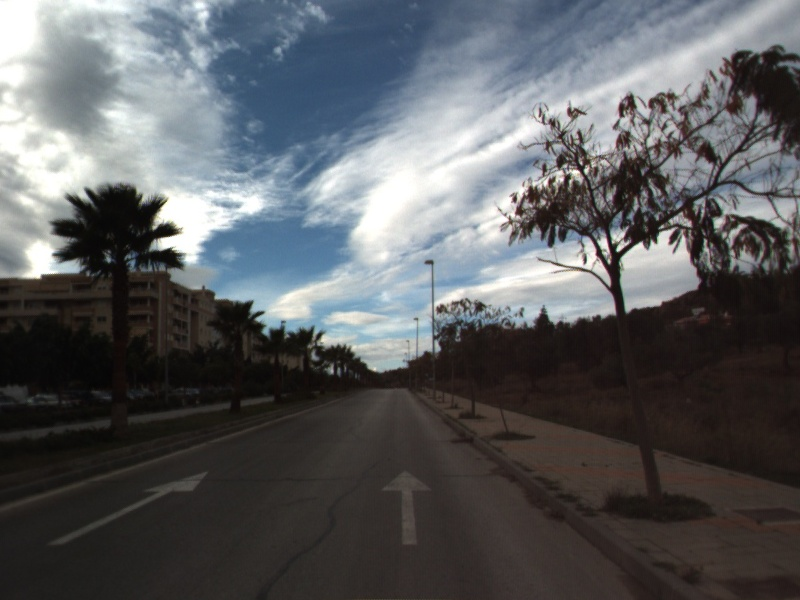STRAIGHT: (45, 469, 211, 547), (379, 467, 434, 547)
